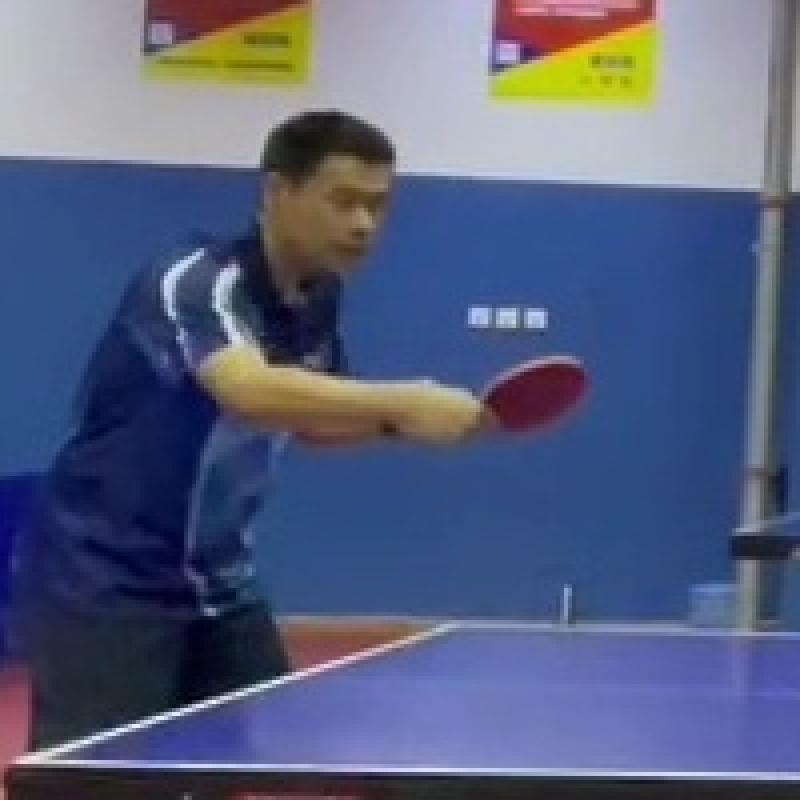bats: (469, 348, 597, 441)
